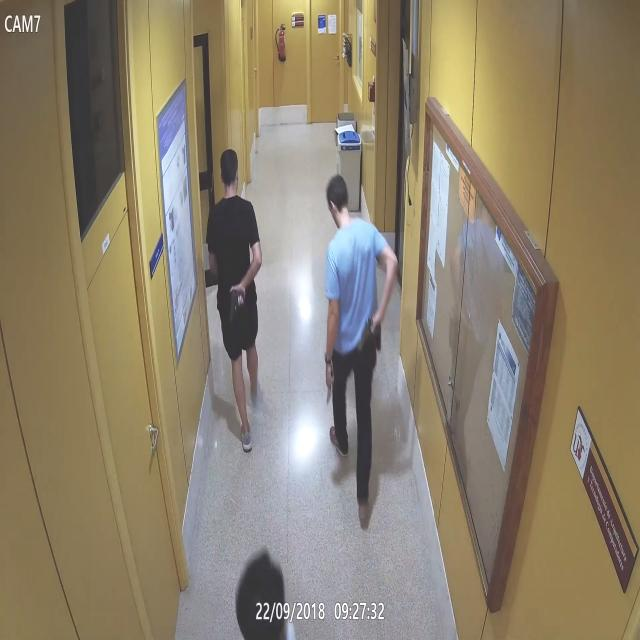knife: (325, 366, 334, 406)
pistol: (358, 312, 380, 349), (228, 289, 246, 326)
